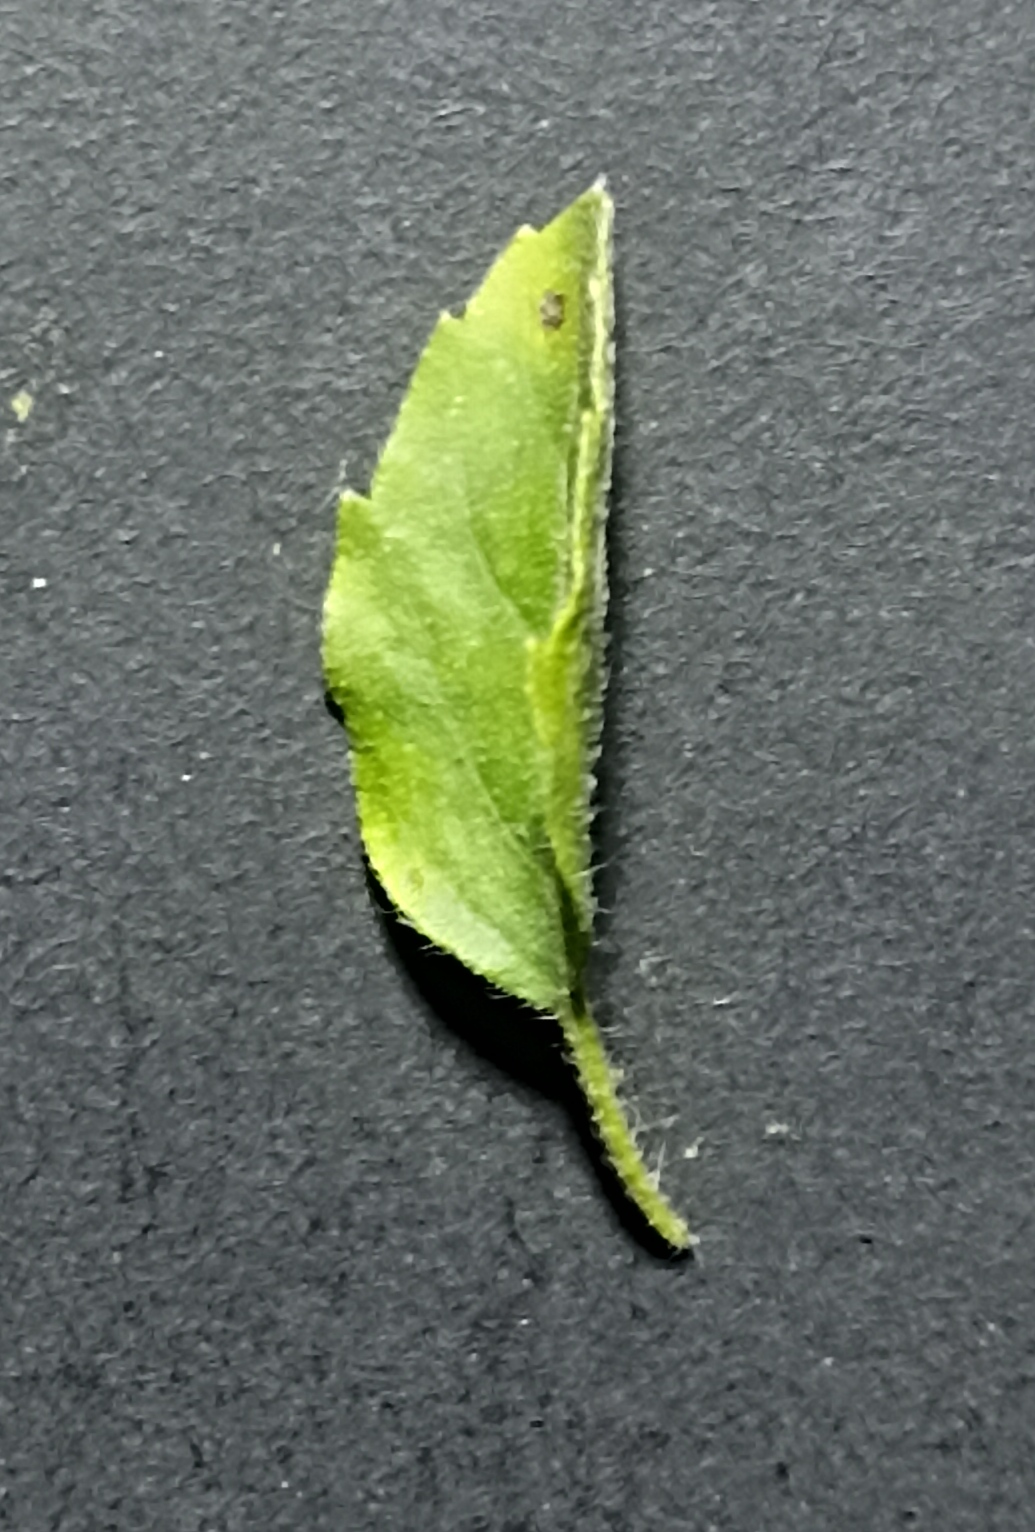Healthy: (334, 140, 643, 1033)
